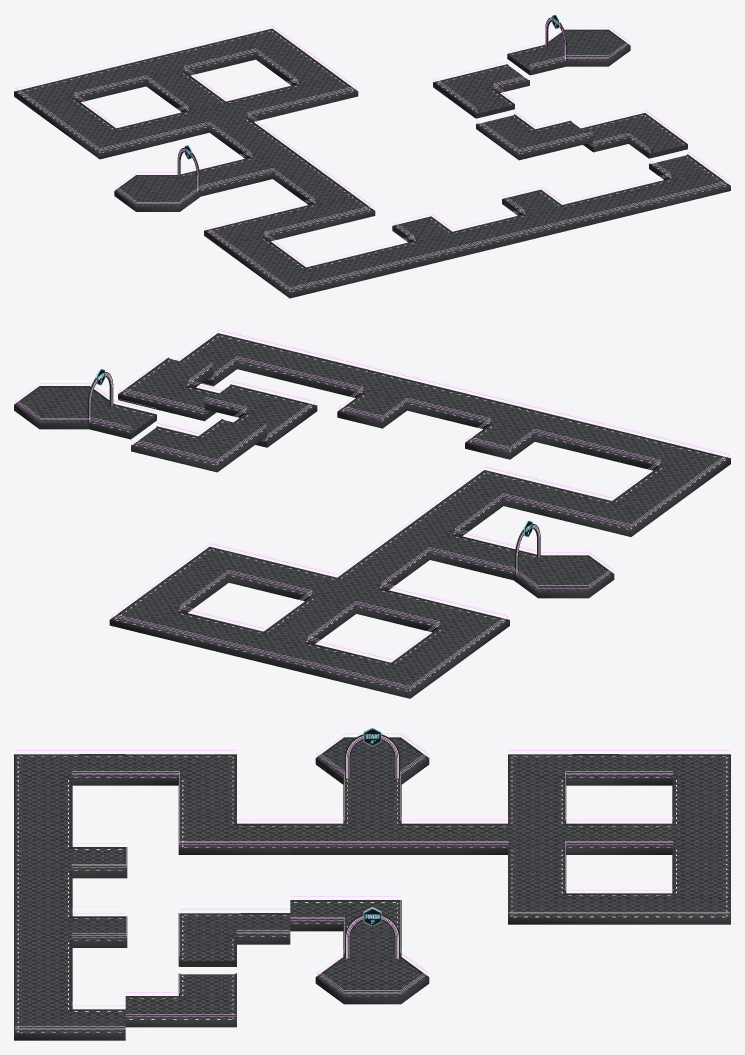
Rendered from map1.glb.
3 renders of one model, top to bottom at view 1: azimuth 30°, elevation 25°; view 2: azimuth 150°, elevation 25°; view 3: azimuth 270°, elevation 25°, orthographic. The views are drawn at different scales.
Parts seen in each view (by area): view 1: Platform2.003, Platform5.001, Platform5.002, Platform3.005, Platform3.004, Platform4.017, Platform4.016, Platform4.020, Platform4.013, Platform4.014, Platform4.011, Platform4.010 (+10 smaller); view 2: Platform2.003, Platform5.002, Platform5.001, Platform3.005, Platform3.004, Platform4.019, Platform4.017, Platform4.012, Platform4.018, Platform4.013, Platform4.020, Platform4.010 (+10 smaller); view 3: Platform2.003, Platform3.004, Platform5.002, Platform5.001, Platform3.005, FinishArea.001, Platform4.016, Platform4.014, Platform4.011, Platform4.010, Platform4.018, Platform4.015 (+10 smaller).
Part boxes in pixels (x1,y1,x2,y2): Platform2.003: (152, 81, 283, 147); Platform5.001: (378, 211, 510, 271); Platform5.002: (488, 184, 619, 244); Platform3.005: (89, 42, 220, 100); Platform3.004: (215, 128, 331, 193); Platform4.017: (433, 59, 529, 118); Platform4.016: (476, 109, 593, 160); Platform4.020: (57, 109, 174, 159); Platform4.013: (247, 249, 363, 298); Platform4.014: (634, 150, 730, 208); Platform4.011: (279, 174, 375, 233); Platform4.010: (262, 55, 358, 114); Platform2.003: (270, 555, 422, 630); Platform5.002: (320, 358, 473, 428); Platform5.001: (448, 390, 601, 459); Platform3.005: (196, 608, 349, 677); Platform3.004: (361, 501, 496, 576); Platform4.019: (323, 639, 460, 698); Platform4.017: (131, 413, 267, 472); Platform4.012: (544, 478, 680, 536); Platform4.018: (109, 577, 221, 646); Platform4.013: (618, 431, 730, 500); Platform4.020: (397, 593, 509, 661); Platform4.010: (160, 540, 295, 599); Platform2.003: (454, 794, 619, 871); Platform3.004: (290, 794, 454, 854); Platform5.002: (14, 894, 127, 964); Platform5.001: (14, 824, 127, 894); Platform3.005: (619, 801, 730, 871); FinishArea.001: (315, 907, 429, 1004); Platform4.016: (178, 906, 290, 966); Platform4.014: (14, 986, 125, 1040); Platform4.011: (178, 794, 290, 854); Platform4.010: (508, 864, 619, 924); Platform4.018: (619, 870, 730, 924); Platform4.015: (125, 966, 236, 1027).
Size of what is drawn, in the model's own units: 81.13 by 13.2 by 78.4.
Materials: 3 (2 with a texture image).
